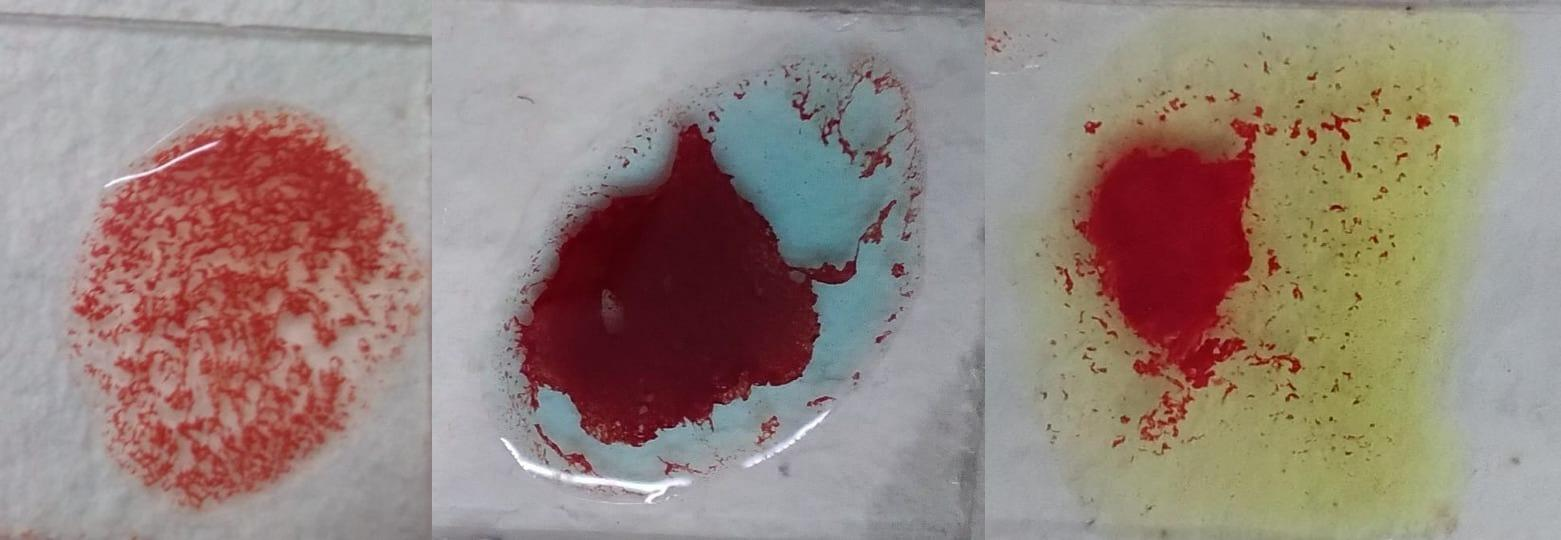A: (493, 46, 916, 493)
B: (1039, 11, 1429, 524)
D: (77, 104, 410, 499)
